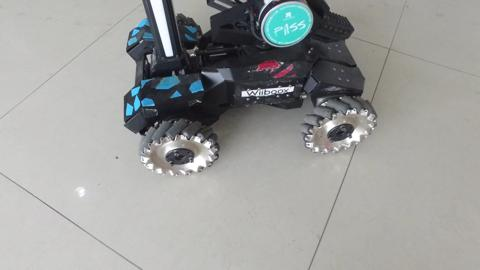chariot: (125, 19, 366, 189)
